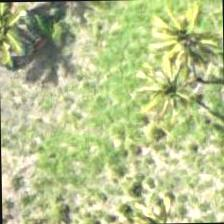Kelapa_Sawit: (120, 47, 212, 139), (138, 0, 223, 88), (0, 1, 51, 81)
